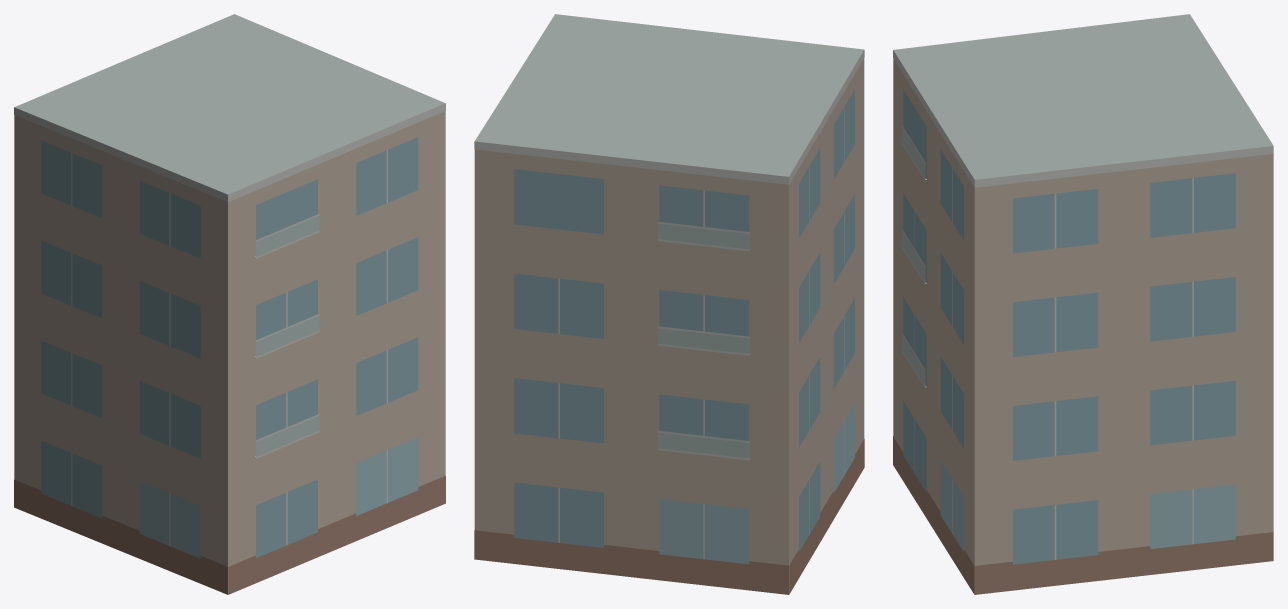
Rendered from survey-upis-32712870.glb.
The picture shows the model from 3 angles, left to right: view 1: azimuth 30°, elevation 25°; view 2: azimuth 150°, elevation 25°; view 3: azimuth 270°, elevation 25°; orthographic projection. The views are drawn at different scales.
Parts seen in each view (by area): view 1: survey-upis-32712870.tmp; view 2: survey-upis-32712870.tmp; view 3: survey-upis-32712870.tmp.
Boxes of the visible parts, x1,y1,x2,y2 form: survey-upis-32712870.tmp: [14, 14, 445, 594]; survey-upis-32712870.tmp: [474, 14, 864, 594]; survey-upis-32712870.tmp: [893, 14, 1273, 594].
Bounding box in the file's own units: 10.98 × 12.8 × 10.65.
